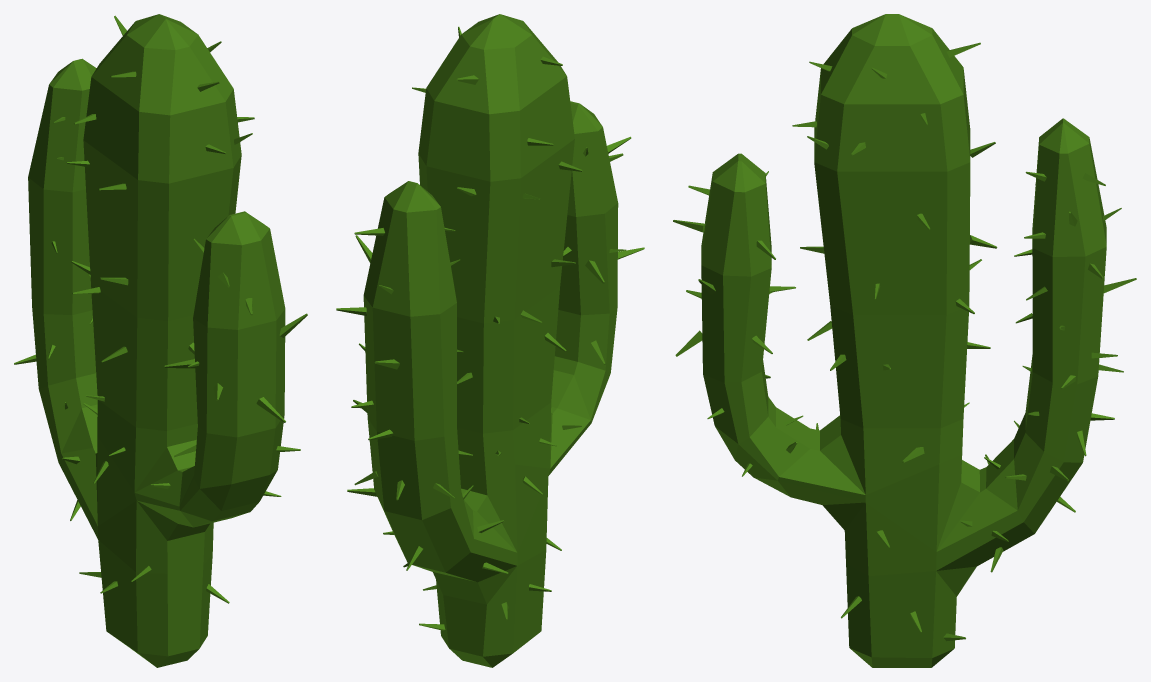
The model's file is Cactus02.fbx.
3 renders of one model, left to right at view 1: azimuth 30°, elevation 25°; view 2: azimuth 150°, elevation 25°; view 3: azimuth 270°, elevation 25°, orthographic.
Visible parts, largest first — view 1: cactus-2; view 2: cactus-2; view 3: cactus-2.
Part boxes in pixels (x1,y1,x2,y2): cactus-2: [14, 14, 307, 667]; cactus-2: [336, 14, 644, 667]; cactus-2: [673, 14, 1136, 667].
Bounding box in the file's own units: 0.737 × 3.06 × 1.99.
